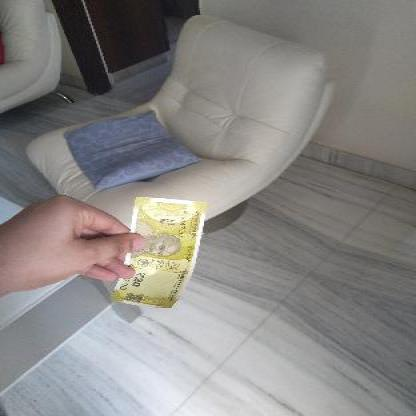New20Front: (116, 186, 203, 311)
